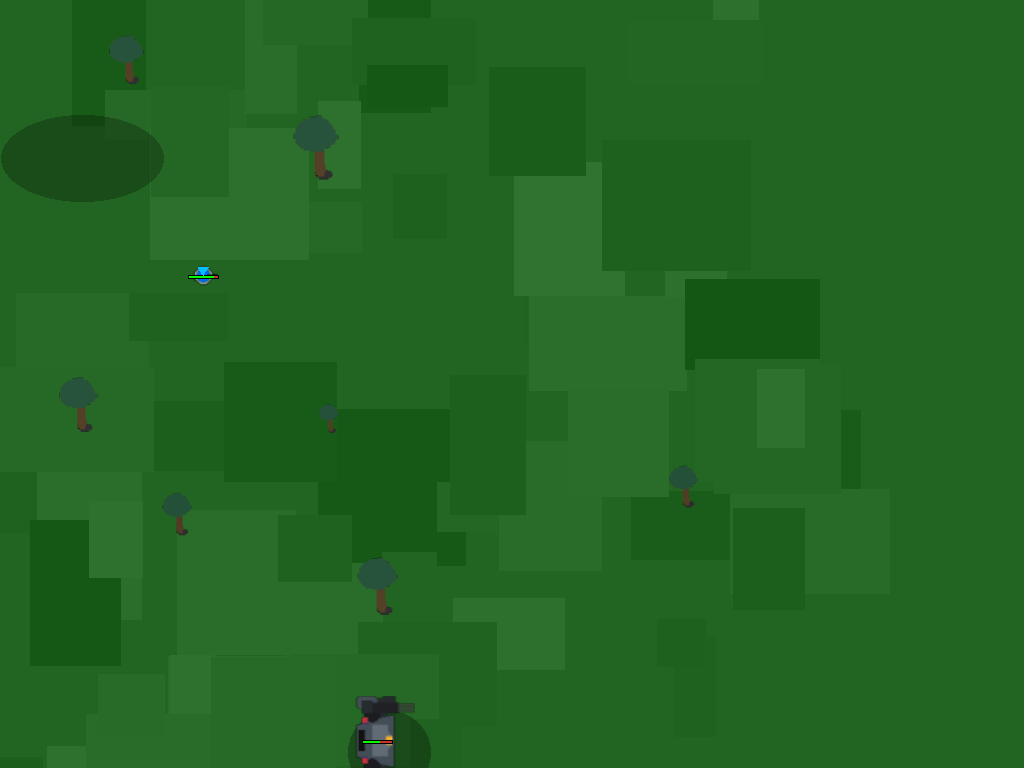Bastion: (346, 708, 408, 768)
FighterJet_rus: (0, 6, 178, 184)
PowerPlant: (184, 256, 221, 293)
